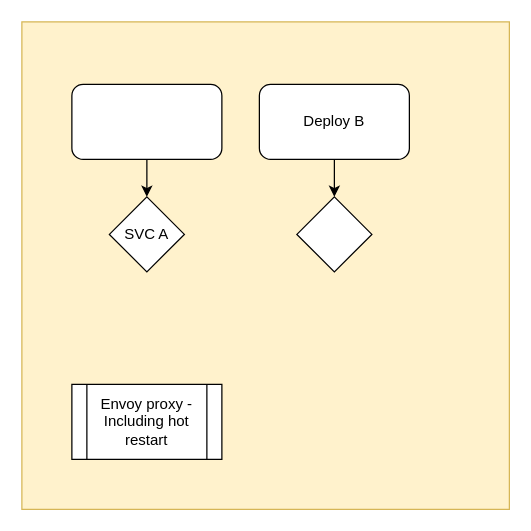
Some shapes in this 531 by 531 pixel diagram are drawn without their labels. Here are the shapes that lost their labels. From the top down, the centre of each, then its label:
the point at 146,121: Deploy A
the point at 334,234: SVC B
